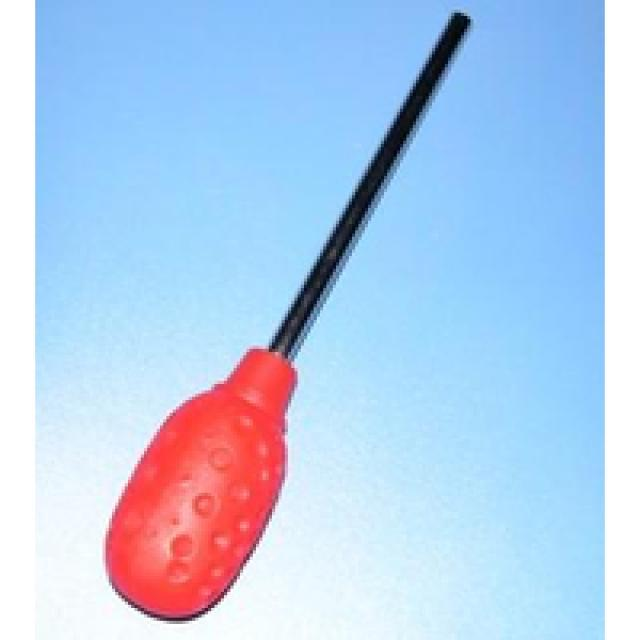screwdriver: (90, 5, 470, 618)
